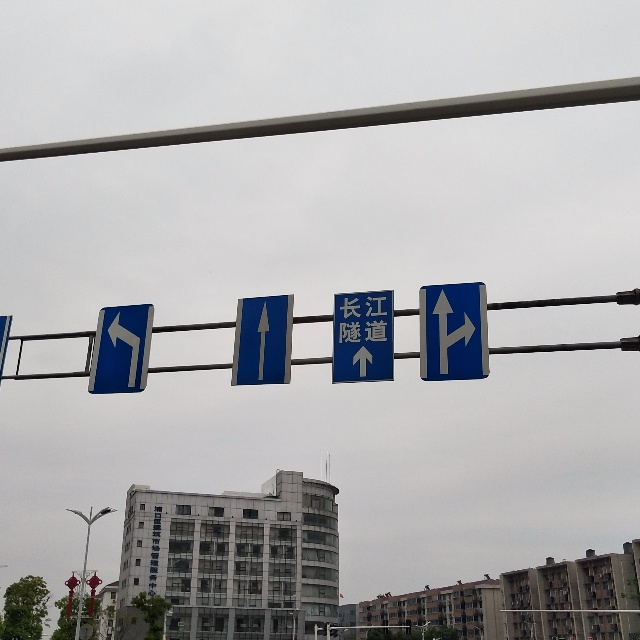left: (88, 304, 148, 393)
straight: (232, 295, 291, 385)
